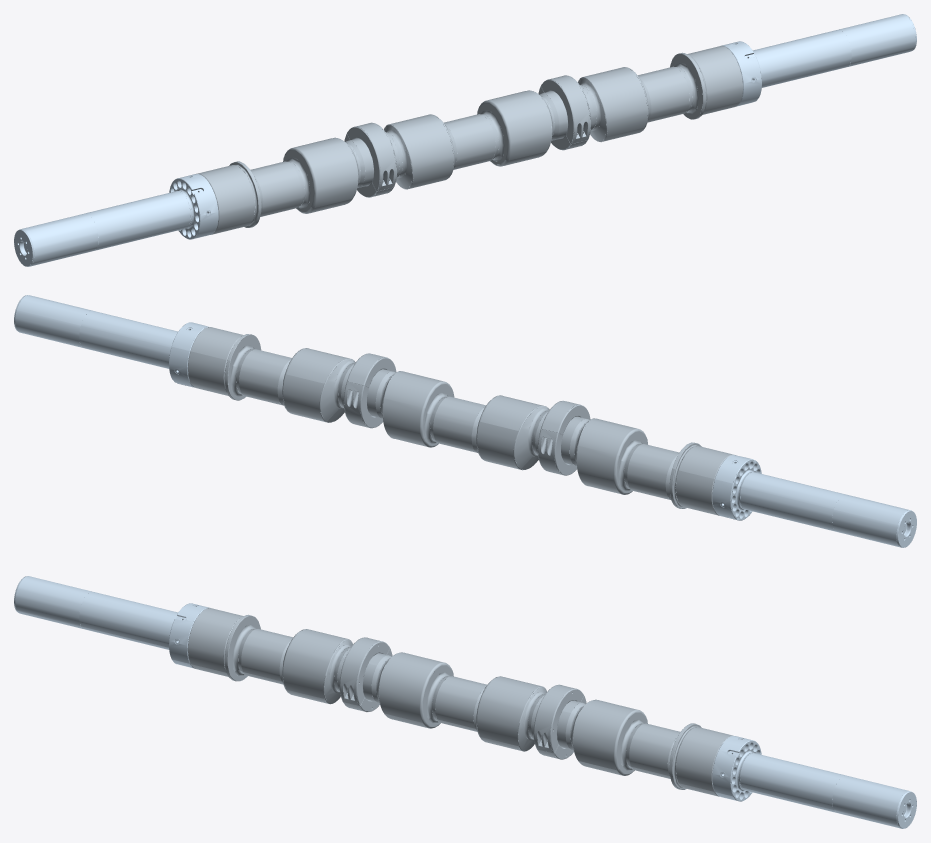
3 views of the same model, one above another, from view 1: azimuth 30°, elevation 25°; view 2: azimuth 150°, elevation 25°; view 3: azimuth 330°, elevation 25° (orthographic).
Parts seen in each view (by area): view 1: 2A0201Low; view 2: 2A0201Low; view 3: 2A0201Low.
Boxes of the visible parts, left/top/right/bottom form: 2A0201Low: left=14, top=14, right=916, bottom=266; 2A0201Low: left=14, top=295, right=916, bottom=547; 2A0201Low: left=14, top=576, right=916, bottom=828.
Bounding box in the file's own units: 4.22 × 0.3149 × 0.3067.
